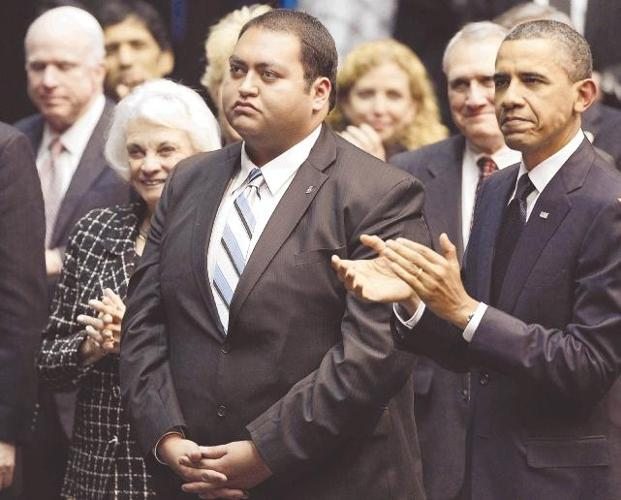person: (334, 16, 620, 500)
